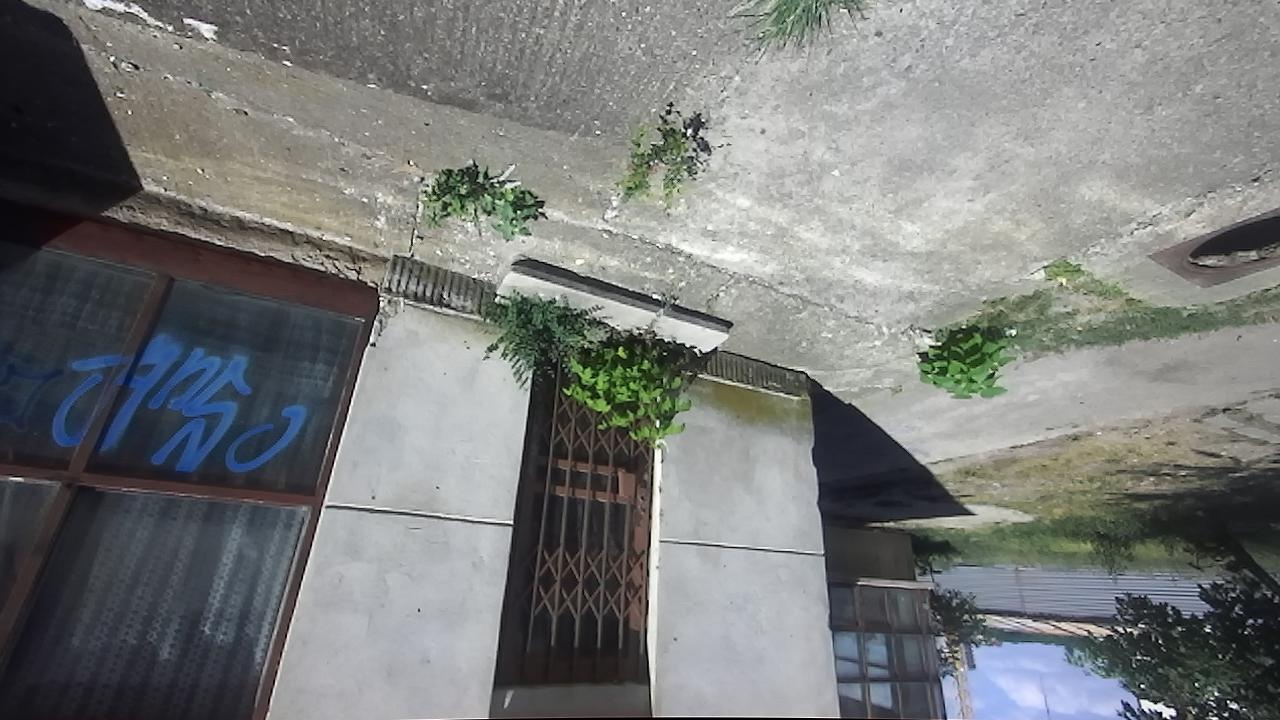drain: (1170, 213, 1279, 278)
